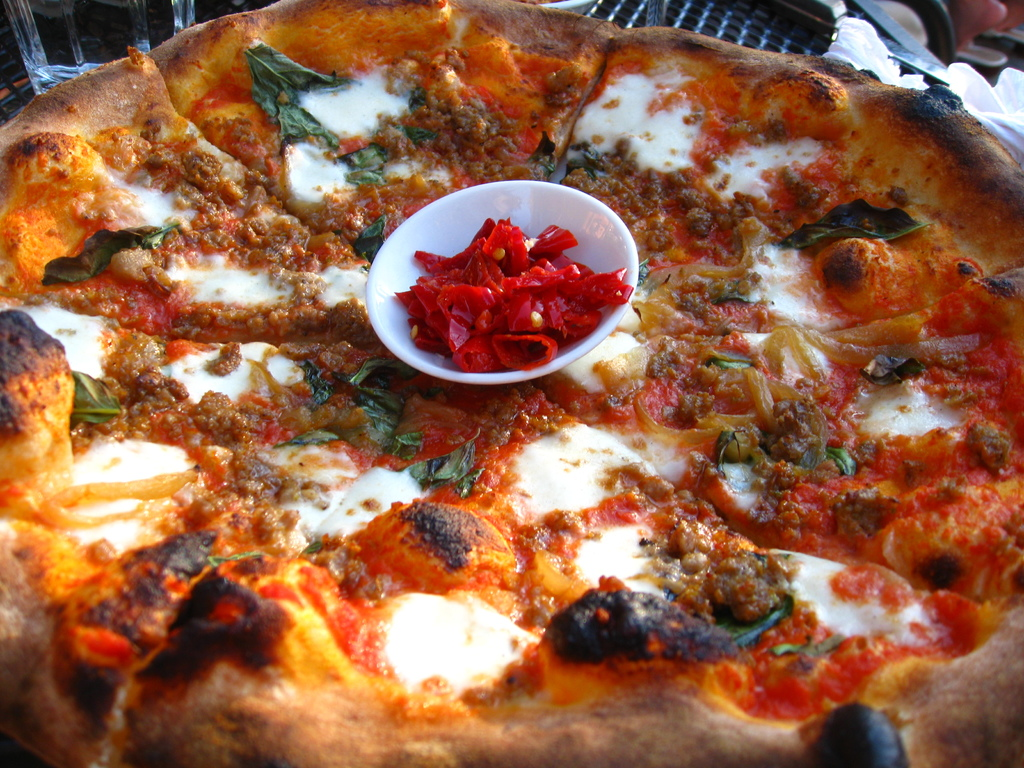Pizza: (0, 10, 1024, 768)
